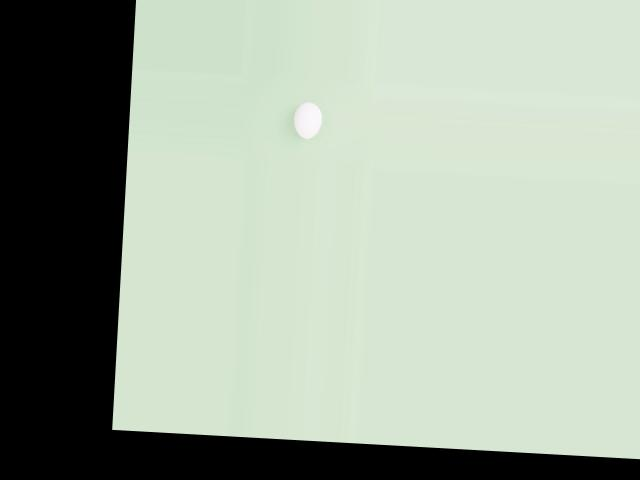egg: (293, 100, 323, 139)
